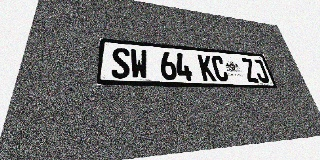4: (174, 52, 193, 81)
6: (159, 51, 178, 80)
C: (210, 55, 229, 82)
J: (251, 59, 270, 83)
K: (197, 54, 216, 81)
S: (111, 47, 130, 79)
W: (130, 49, 148, 79)
Z: (240, 58, 259, 82)
